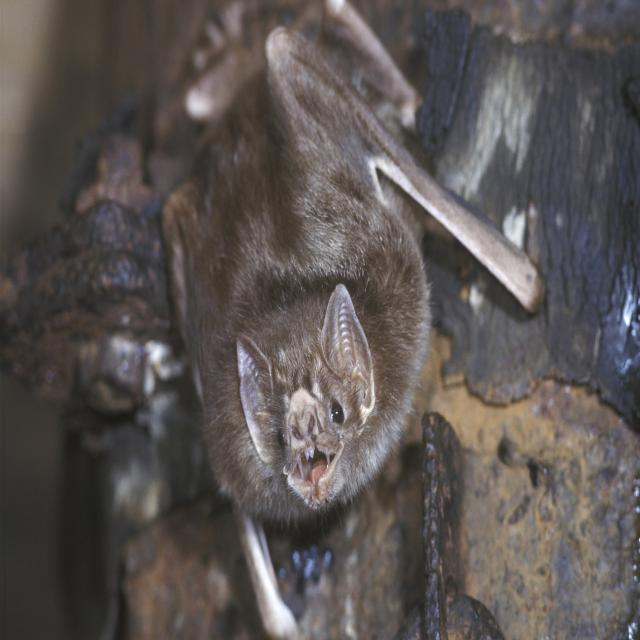Bat: (164, 43, 468, 609)
